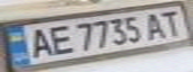3: (109, 16, 130, 46)
5: (124, 12, 148, 44)
7: (72, 19, 96, 52), (90, 17, 112, 48)
A: (21, 26, 54, 60), (142, 10, 169, 40)
E: (42, 22, 75, 56)
T: (154, 8, 187, 37)
